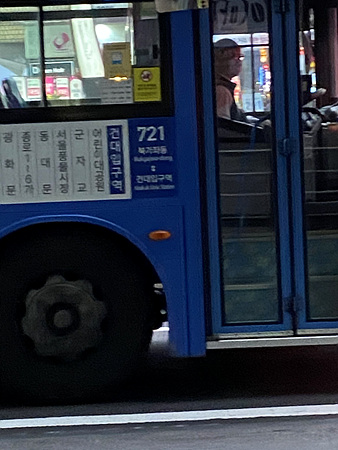entrance: (193, 9, 338, 344)
